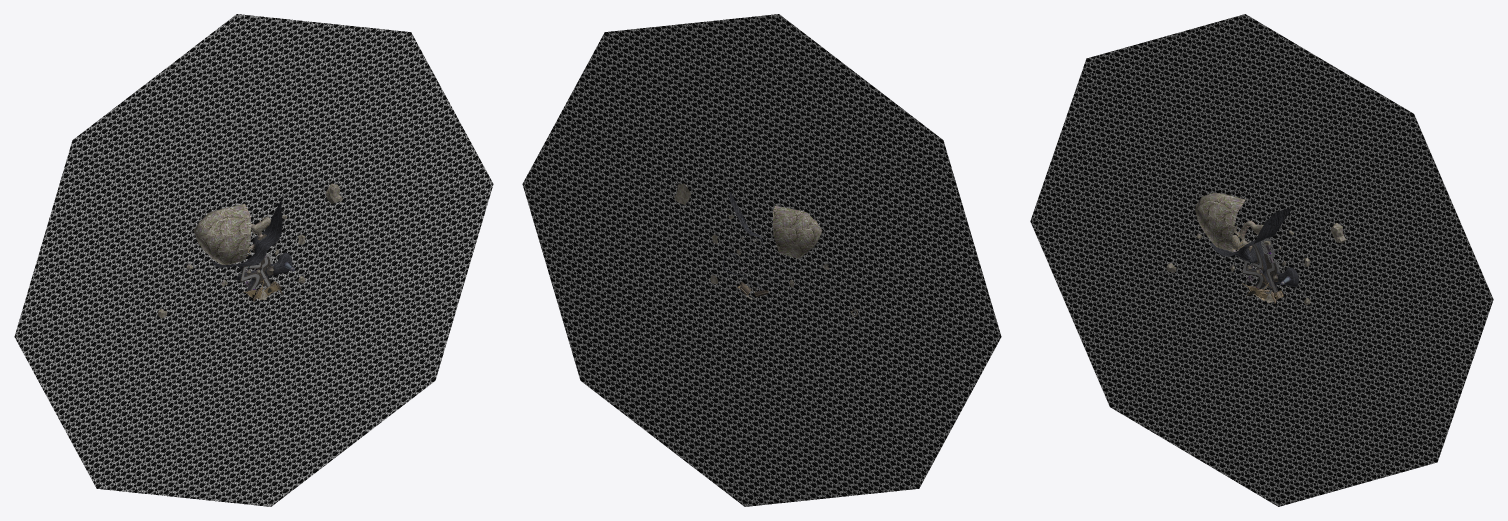
3 renders of one model, left to right at view 1: azimuth 30°, elevation 25°; view 2: azimuth 150°, elevation 25°; view 3: azimuth 330°, elevation 25°, orthographic. The views are drawn at different scales.
Visible parts, largest first — view 1: No Light.020Mesh.001, No Light.024Mesh.001, No Light.008Mesh.001, No Light.006Mesh.001; view 2: No Light.020Mesh.001, No Light.024Mesh.001, No Light.006Mesh.001, No Light.008Mesh.001; view 3: No Light.020Mesh.001, No Light.024Mesh.001, No Light.008Mesh.001, No Light.006Mesh.001.
Boxes of the visible parts, x1,y1,x2,y2 form: No Light.020Mesh.001: (14,14,493,506); No Light.024Mesh.001: (193,204,250,264); No Light.008Mesh.001: (211,193,292,290); No Light.006Mesh.001: (158,183,342,318); No Light.020Mesh.001: (522,14,1001,506); No Light.024Mesh.001: (773,205,822,258); No Light.006Mesh.001: (674,183,857,317); No Light.008Mesh.001: (723,192,800,289); No Light.020Mesh.001: (1030,14,1493,506); No Light.024Mesh.001: (1195,193,1247,251); No Light.008Mesh.001: (1210,208,1298,291); No Light.006Mesh.001: (1166,223,1346,305).
Size of the model in its own units: 5985 by 5985 by 550.
Materials: 50 (50 with a texture image).
